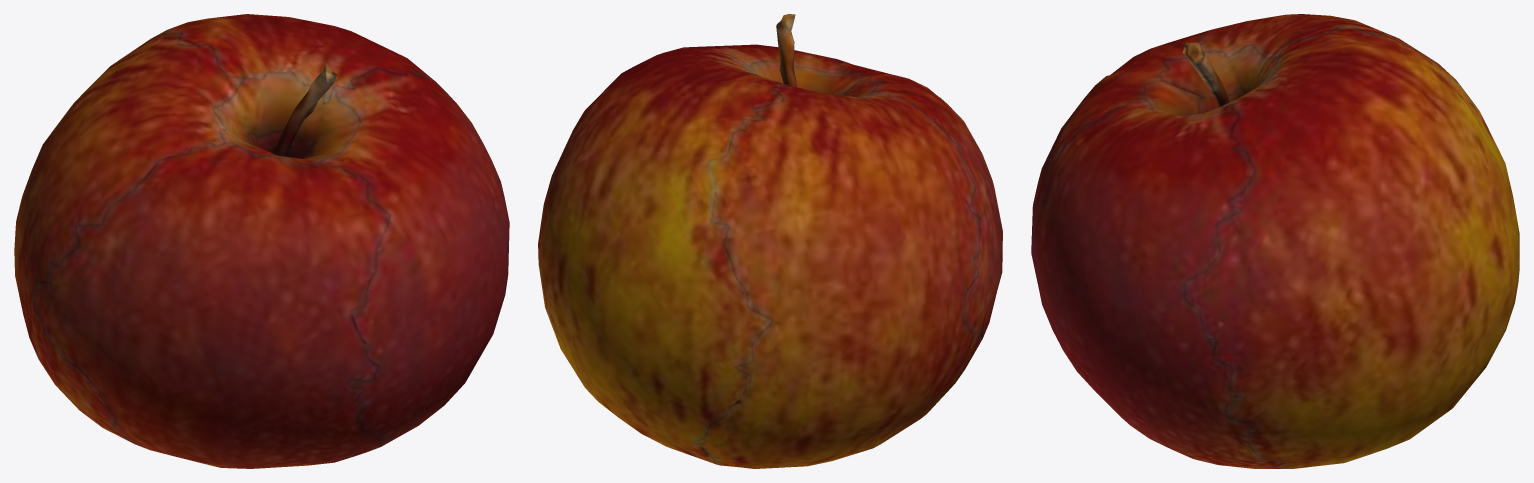
The model's file is food_apple_01.glb.
3 renders of one model, left to right at view 1: azimuth 30°, elevation 25°; view 2: azimuth 150°, elevation 25°; view 3: azimuth 270°, elevation 25°, orthographic. The views are drawn at different scales.
Parts seen in each view (by area): view 1: food_apple_01; view 2: food_apple_01; view 3: food_apple_01.
Boxes of the visible parts, x1=… form: food_apple_01: x1=14, y1=14, x2=509, y2=468; food_apple_01: x1=538, y1=14, x2=1002, y2=468; food_apple_01: x1=1031, y1=14, x2=1519, y2=468.
Size of the model in its own units: 0.0971 by 0.0854 by 0.0958.
Materials: 1 (1 with a texture image).
